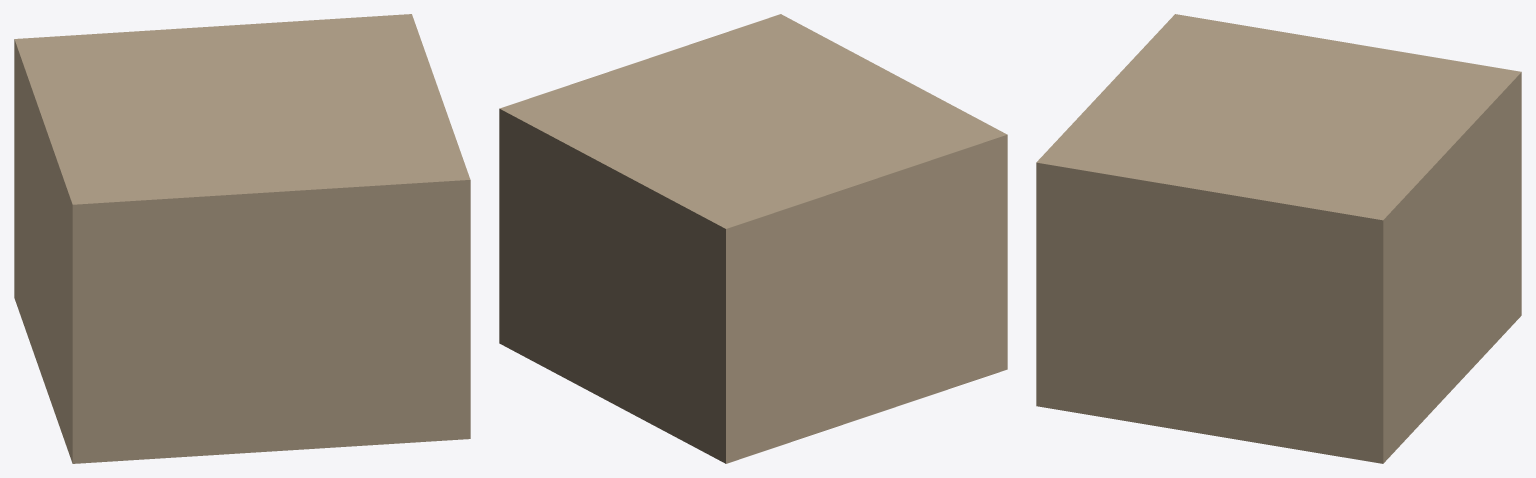
Rendered from bld_99532011.dae.
3 views of the same model, side by side, from view 1: azimuth 30°, elevation 25°; view 2: azimuth 150°, elevation 25°; view 3: azimuth 270°, elevation 25° (orthographic). The views are drawn at different scales.
Visible parts, largest first — view 1: bld_99532011; view 2: bld_99532011; view 3: bld_99532011.
Boxes of the visible parts, x1,y1,x2,y2 form: bld_99532011: [14, 14, 470, 463]; bld_99532011: [499, 14, 1007, 463]; bld_99532011: [1036, 14, 1521, 463].
Bounding box in the file's own units: 14.53 × 14.45 × 8.
